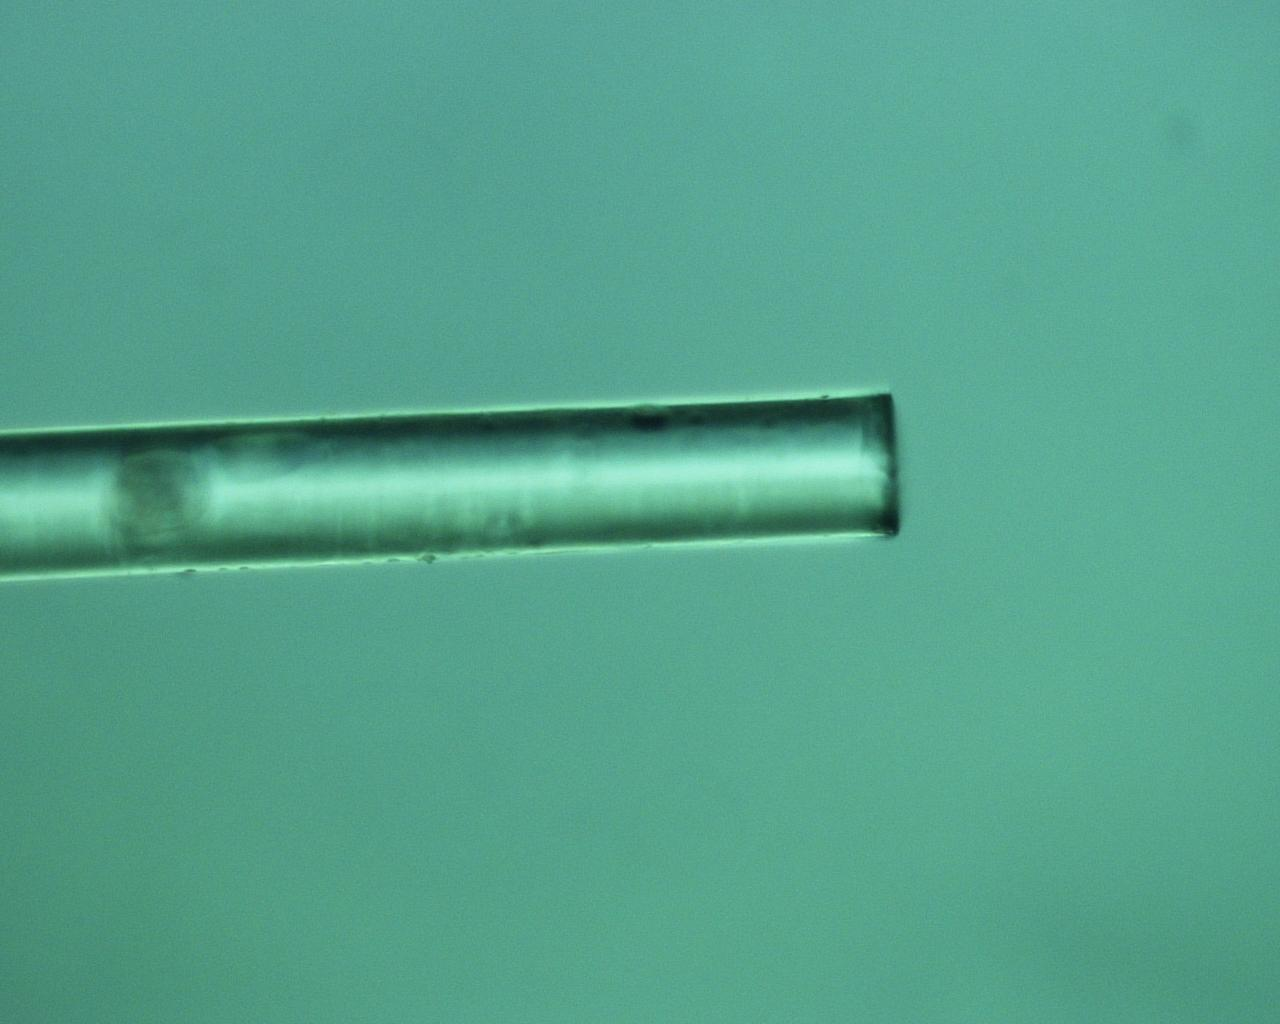fiber: (0, 391, 900, 577)
